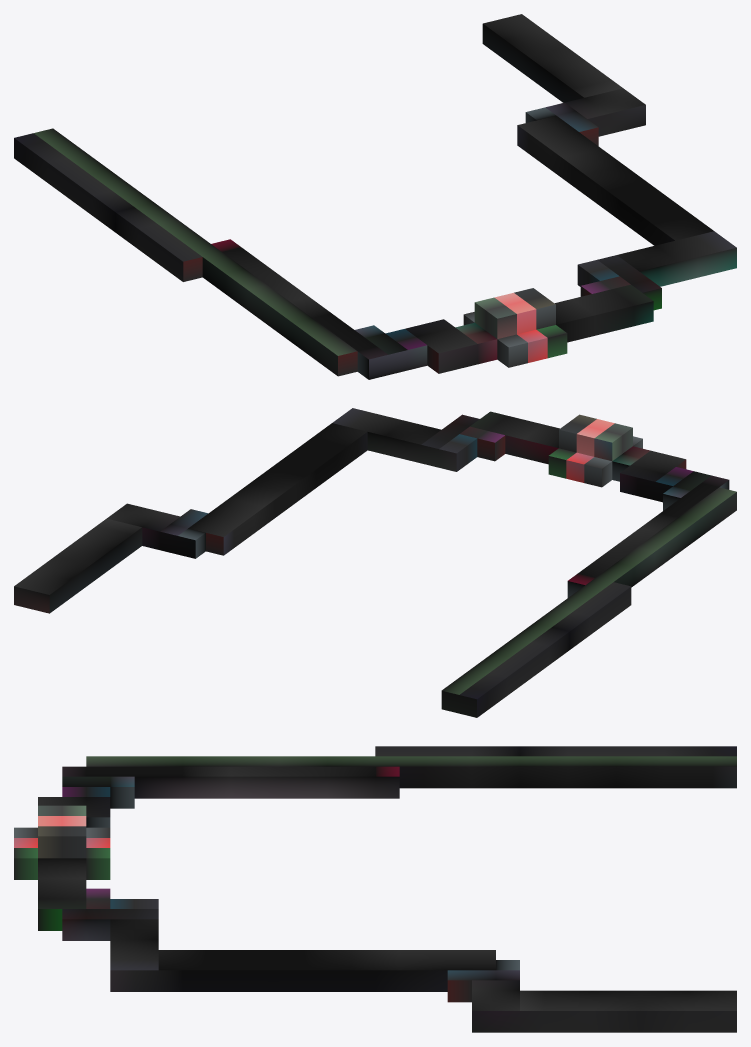
File: Cable_R_00.fbx
The picture shows the model from 3 angles, top to bottom: view 1: azimuth 30°, elevation 25°; view 2: azimuth 150°, elevation 25°; view 3: azimuth 270°, elevation 25°; orthographic projection. The views are drawn at different scales.
Parts seen in each view (by area): view 1: Cable_R_00; view 2: Cable_R_00; view 3: Cable_R_00.
Part boxes in pixels (x1,y1,x2,y2): Cable_R_00: [14, 14, 736, 379]; Cable_R_00: [14, 408, 736, 717]; Cable_R_00: [14, 746, 736, 1032].
Bounding box in the file's own units: 130 × 10 × 150.
